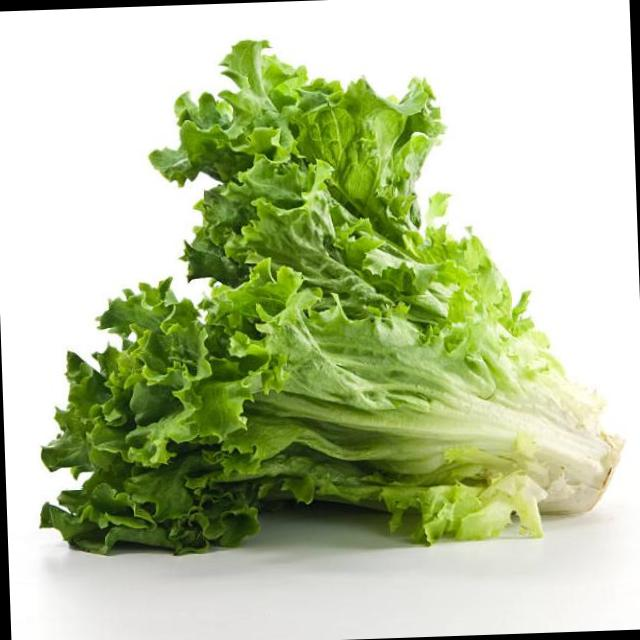Lettuce-Ready-to-Harvest: (41, 41, 620, 553)
